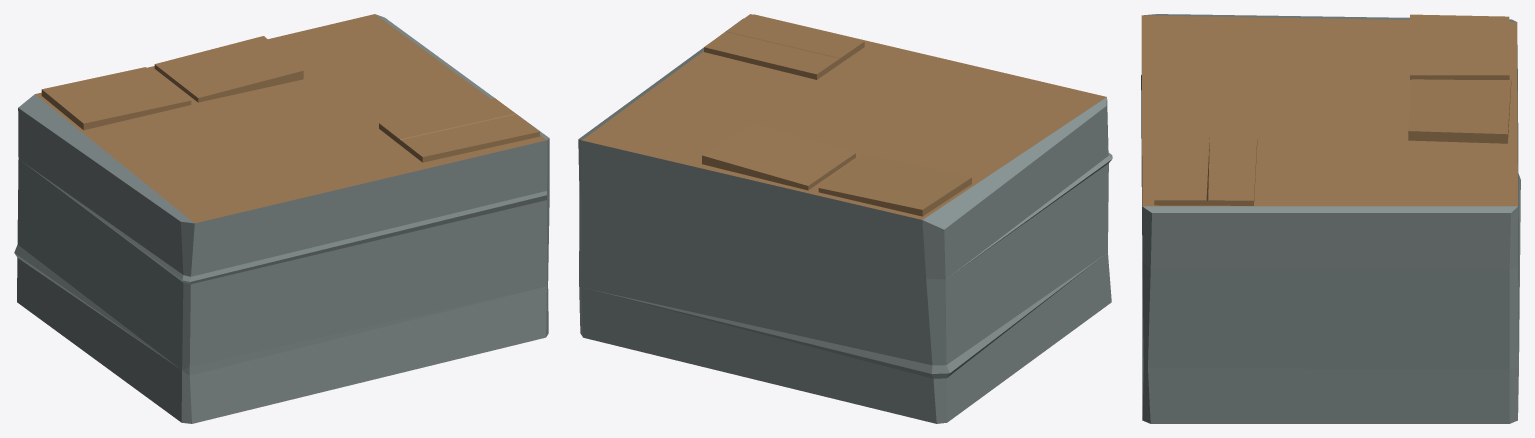
File: ShrinkWrapped_01.fbx
3 renders of one model, left to right at view 1: azimuth 30°, elevation 25°; view 2: azimuth 150°, elevation 25°; view 3: azimuth 270°, elevation 25°, orthographic. The views are drawn at different scales.
Visible parts, largest first — view 1: ShrinkWrapped_01; view 2: ShrinkWrapped_01; view 3: ShrinkWrapped_01.
Part boxes in pixels (x1,y1,x2,y2): ShrinkWrapped_01: [14, 14, 549, 423]; ShrinkWrapped_01: [578, 14, 1112, 423]; ShrinkWrapped_01: [1141, 14, 1520, 423].
Bounding box in the file's own units: 1.17 × 0.6231 × 0.9517.
